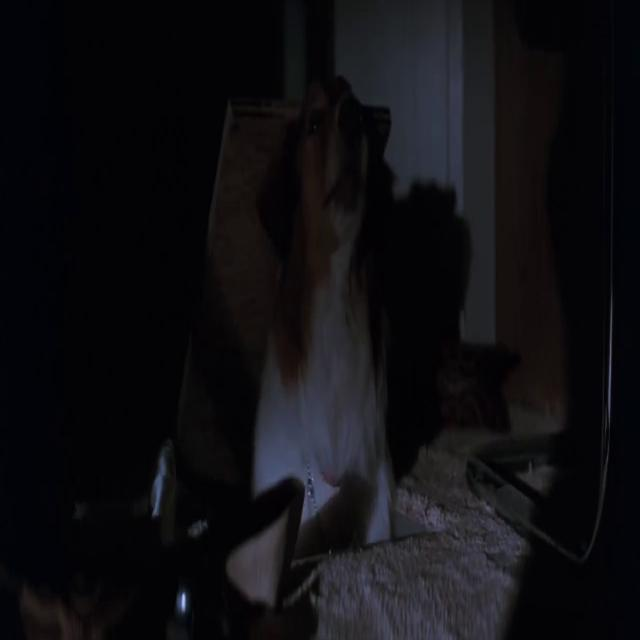dog: (259, 53, 407, 611)
